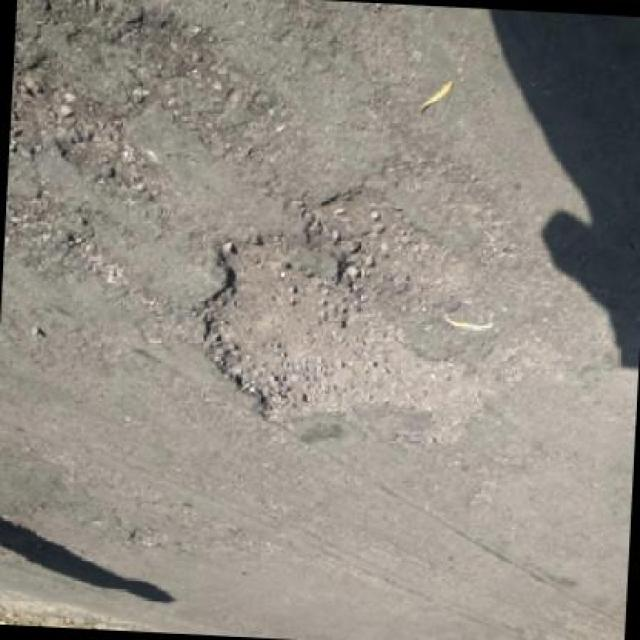pothole1: (187, 177, 528, 452)
